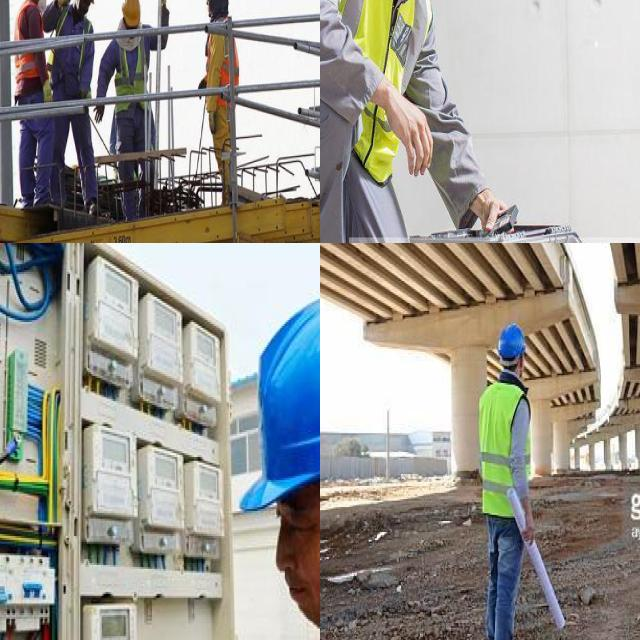No_Glasses: (270, 498, 320, 536)
face_nomask: (277, 531, 320, 627), (77, 0, 91, 18)
hand_glove: (93, 95, 105, 130), (57, 0, 73, 12), (154, 0, 170, 8)
hand_noglove: (387, 70, 438, 190), (476, 187, 514, 241), (521, 515, 538, 548)
head_helmet: (230, 277, 320, 522), (497, 322, 528, 363), (118, 0, 141, 26)
person: (320, 0, 511, 243), (477, 317, 539, 640), (109, 0, 168, 202), (200, 0, 248, 194), (51, 0, 96, 200), (10, 0, 47, 216)
vest: (320, 0, 431, 173), (479, 380, 533, 516), (202, 24, 238, 102), (114, 34, 150, 102), (58, 18, 96, 82), (12, 3, 40, 73)
